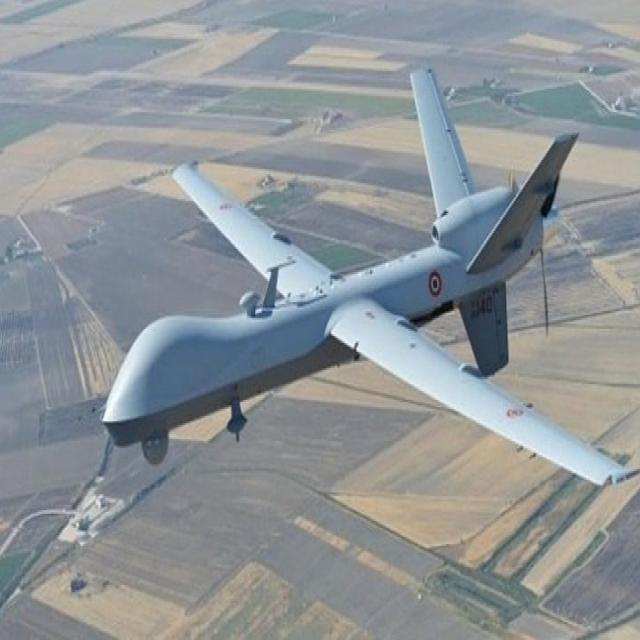iha: (103, 62, 637, 491)
